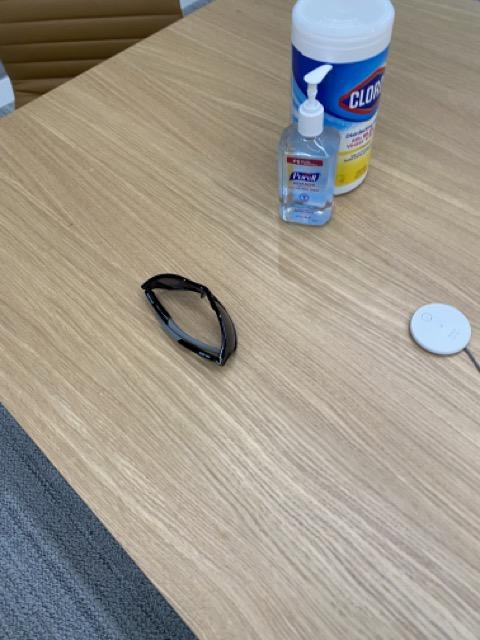Sunglasses: (142, 272, 239, 369)
